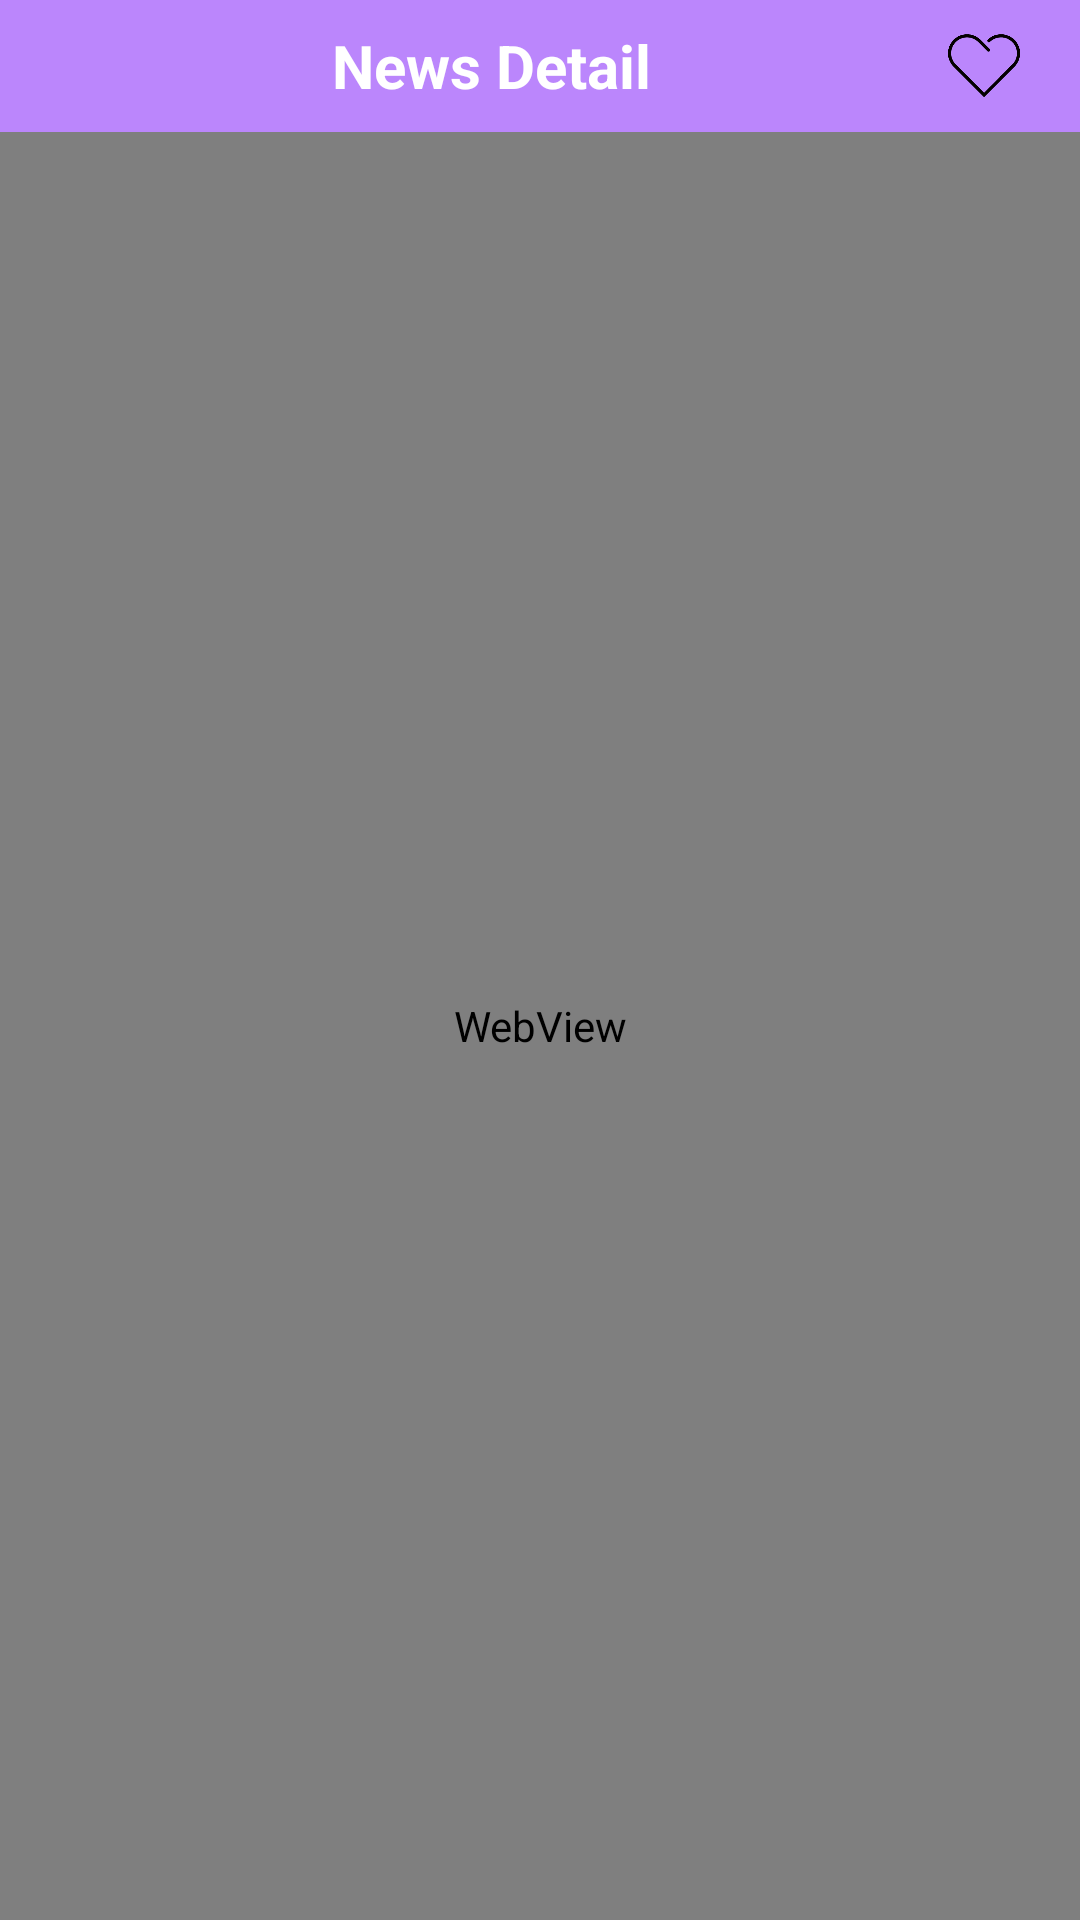

Named icons in this screenshot (1080 × 1920) and their bounding boxes, bbox=(x1, y1, x2, y2):
unfavorite: bbox=(948, 34, 1020, 97)
